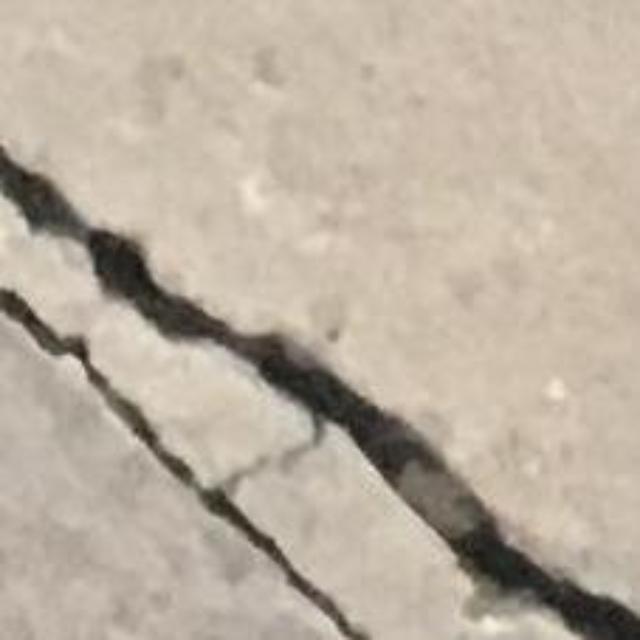crack: (0, 147, 639, 639)
